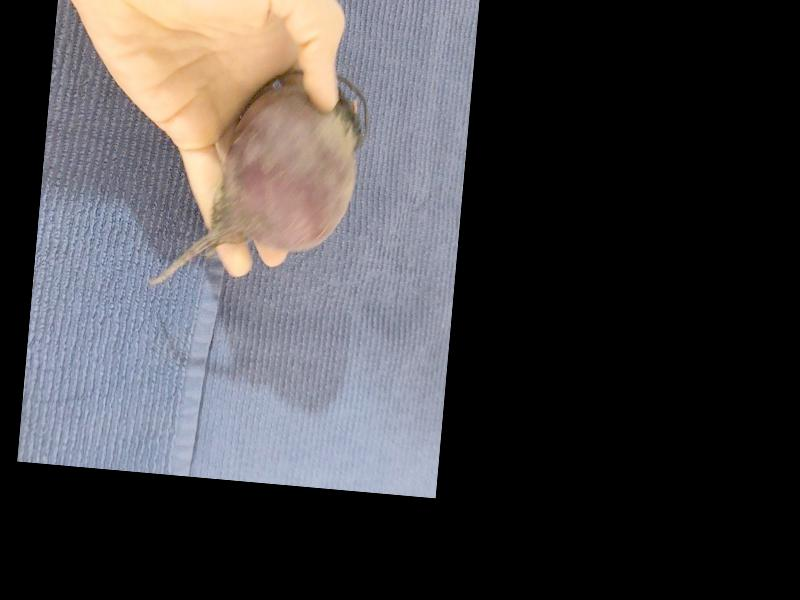Beet: (147, 59, 372, 304)
